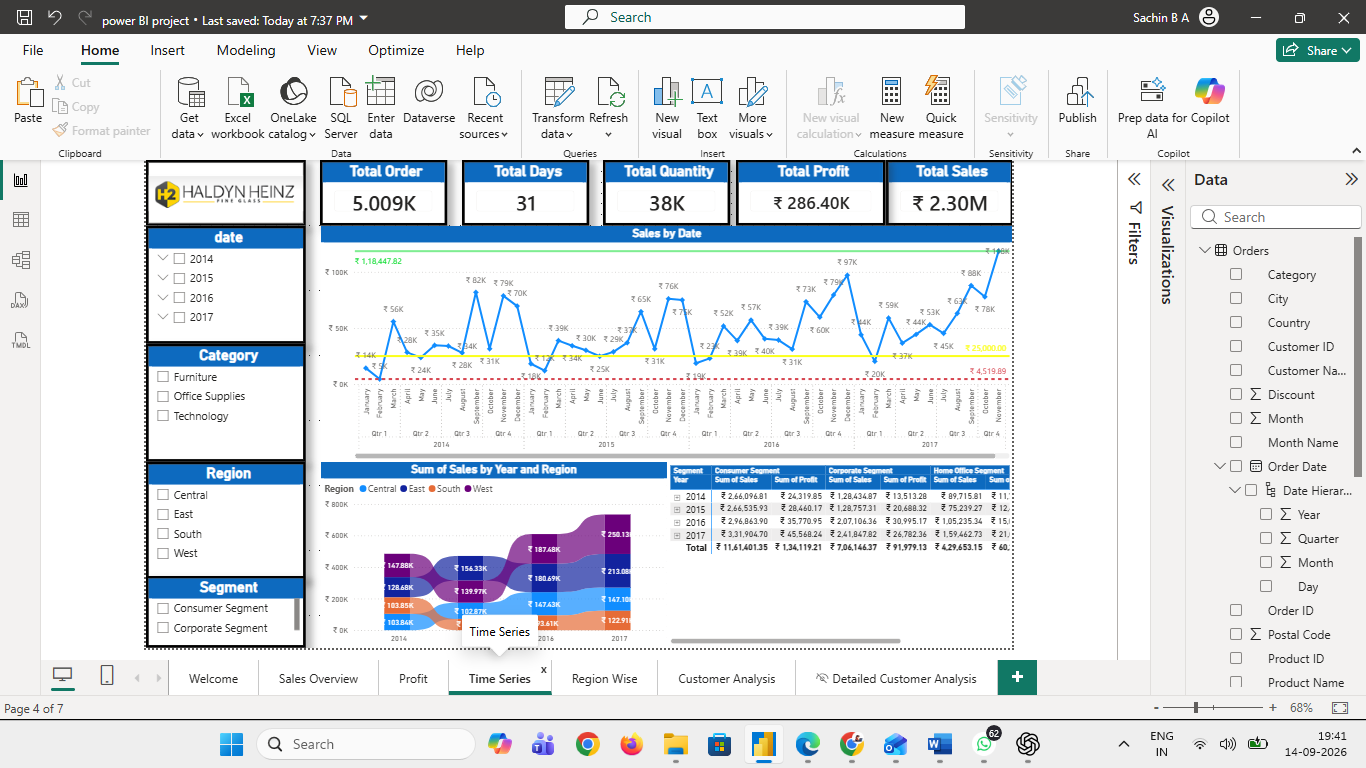

Layout of this report page (visuals, bound fields, positions):
{"tool":"powerbi","page":{"name":"Time Series","canvas":[1280,720],"ordinal":3},"visuals":[{"type":"image","box":[0,0,236.3,97.5],"z":0},{"type":"cardVisual","title":"Total Sales","fields":{"Data":["Sum(Orders.Sales)"]},"box":[1092.4,0,187.6,97.5],"z":1000},{"type":"cardVisual","title":"Total Quantity","fields":{"Data":["Sum(Orders.Quantity)"]},"box":[675.2,0,187.6,97.5],"z":2000},{"type":"cardVisual","title":"Total Profit","fields":{"Data":["Sum(Orders.Profit)"]},"box":[871.4,0,221.4,97.1],"z":3000},{"type":"cardVisual","title":"Total Order","fields":{"Data":["Count(Orders.Order ID)"]},"box":[257.6,0,187.6,97.5],"z":4000},{"type":"cardVisual","title":"Total Days","fields":{"Data":["Count(Orders.Order Date.Variation.Date Hierarchy.Day)"]},"box":[466.4,0,187.6,97.5],"z":5000},{"type":"slicer","title":"date","fields":{"Values":["Orders.Order Date.Variation.Date Hierarchy.Year","Orders.Order Date.Variation.Date Hierarchy.Quarter","Orders.Order Date.Variation.Date Hierarchy.Month","Orders.Order Date.Variation.Date Hierarchy.Day"]},"box":[0,97.5,236.3,174.3],"z":6000},{"type":"slicer","title":"Category","fields":{"Values":["Orders.Category"]},"box":[0,271.8,236.3,174.3],"z":7000},{"type":"slicer","title":"Region","fields":{"Values":["Orders.Region"]},"box":[0,446,236.3,174.3],"z":8000},{"type":"lineChart","title":"Sales by Date","fields":{"Category":["Orders.Order Date.Variation.Date Hierarchy.Year","Orders.Order Date.Variation.Date Hierarchy.Quarter","Orders.Order Date.Variation.Date Hierarchy.Month","Orders.Order Date.Variation.Date Hierarchy.Day"],"Y":["Sum(Orders.Sales)"]},"box":[258.5,97.5,1022,348.6],"z":9000},{"type":"ribbonChart","fields":{"Category":["Orders.Order Date.Variation.Date Hierarchy.Year"],"Series":["Orders.Region"],"Y":["Sum(Orders.Sales)"]},"box":[258.5,446,511,274.7],"z":10000},{"type":"pivotTable","fields":{"Columns":["Orders.Segment"],"Rows":["Orders.Order Date.Variation.Date Hierarchy.Year","Orders.Order Date.Variation.Date Hierarchy.Quarter","Orders.Order Date.Variation.Date Hierarchy.Month","Orders.Order Date.Variation.Date Hierarchy.Day"],"Values":["Sum(Orders.Sales)","Sum(Orders.Profit)"]},"box":[769,446,511,274],"z":11000},{"type":"slicer","title":"Segment","fields":{"Values":["Orders.Segment"]},"box":[0,613.7,236.3,106.3],"z":12000}]}

Visuals, with their boxes on the page's 1280x720 design canvas (x1, y1, x2, y2). These are canvas units, not pixel positions in the 1366x768 screenshot, which may show the page scaled, cropped or inside an application window:
image: region(0, 0, 236, 98)
"Total Sales" cardVisual: region(1092, 0, 1280, 98)
"Total Quantity" cardVisual: region(675, 0, 863, 98)
"Total Profit" cardVisual: region(871, 0, 1093, 97)
"Total Order" cardVisual: region(258, 0, 445, 98)
"Total Days" cardVisual: region(466, 0, 654, 98)
"date" slicer: region(0, 98, 236, 272)
"Category" slicer: region(0, 272, 236, 446)
"Region" slicer: region(0, 446, 236, 620)
"Sales by Date" lineChart: region(258, 98, 1280, 446)
ribbonChart - Orders.Order Date.Variation.Date Hierarchy.Year x Orders.Region: region(258, 446, 770, 721)
pivotTable - Orders.Segment x Orders.Order Date.Variation.Date Hierarchy.Year: region(769, 446, 1280, 720)
"Segment" slicer: region(0, 614, 236, 720)
